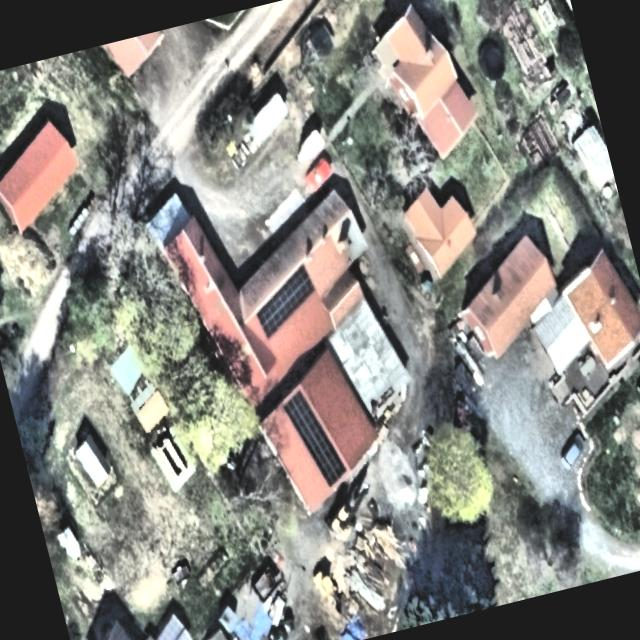roof_pv: (277, 382, 350, 494), (246, 258, 326, 344)
